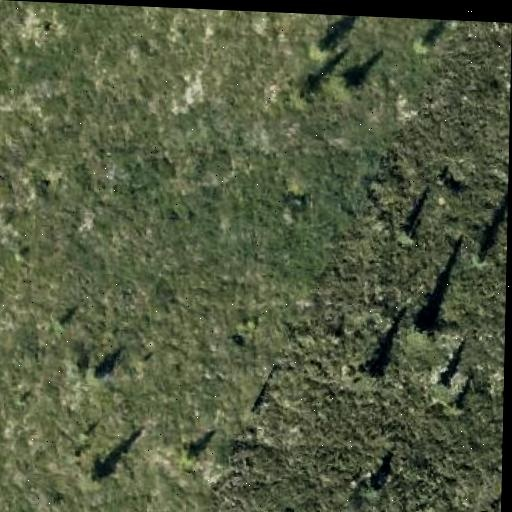tree-top: (82, 454, 111, 487), (306, 34, 336, 64), (407, 316, 438, 345), (332, 71, 361, 100), (393, 222, 423, 250), (293, 79, 317, 109), (86, 359, 110, 388), (412, 28, 434, 55), (363, 474, 385, 501), (473, 247, 495, 270)
